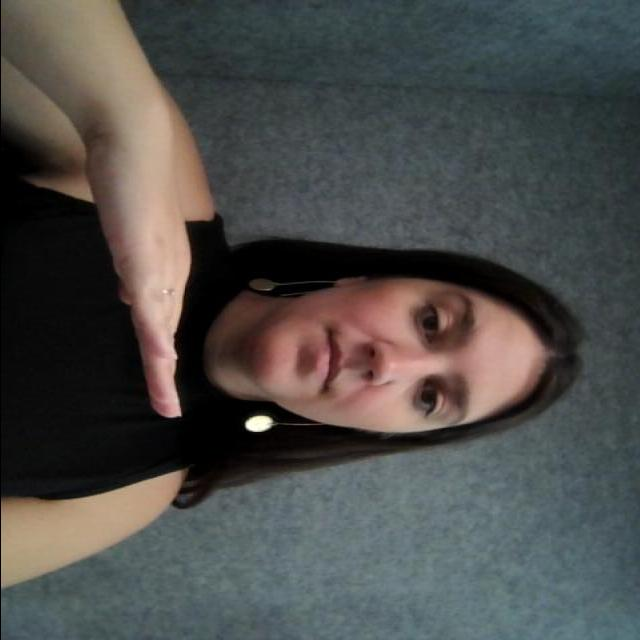Paper: (72, 149, 220, 418)
